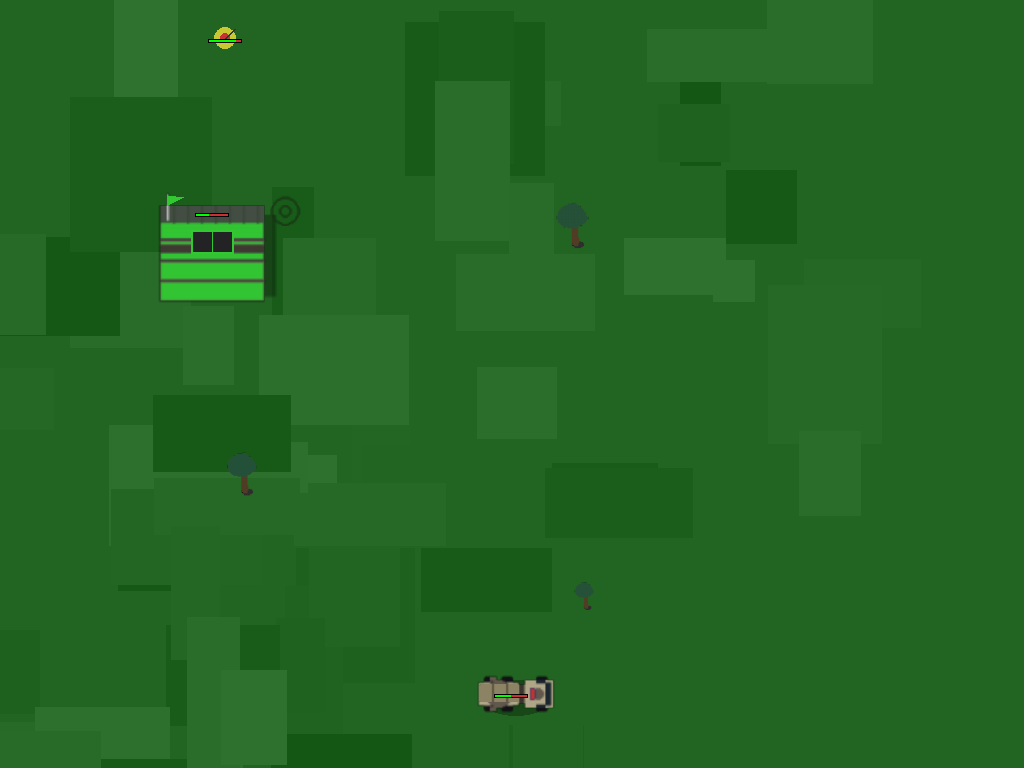APC_rus: (148, 148, 275, 275)
ArmoredCar: (476, 658, 545, 727)
Rifleman: (206, 19, 245, 58)
